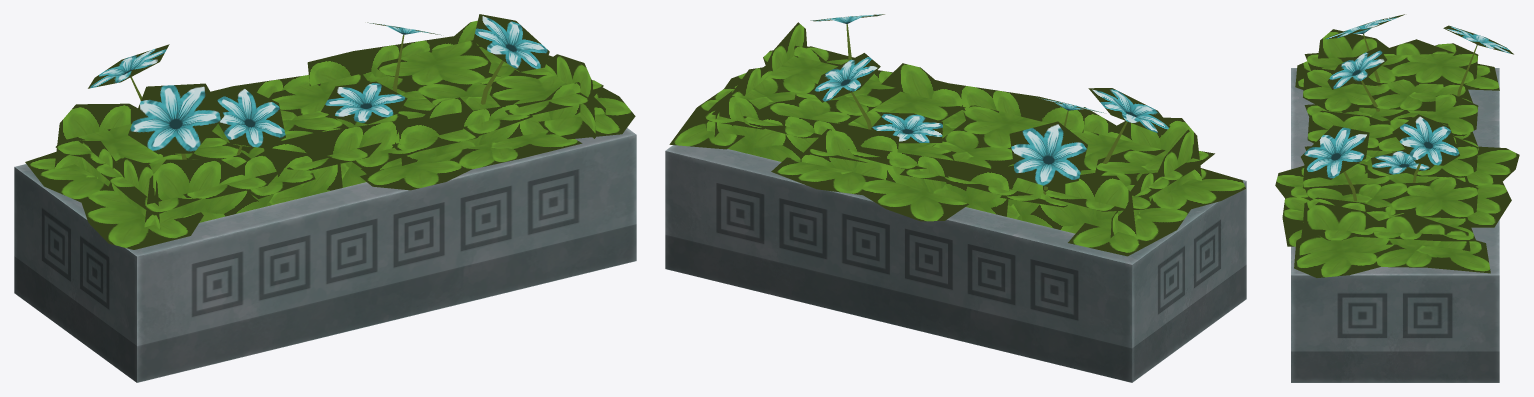
File: vase_04.fbx
The picture shows the model from 3 angles, left to right: view 1: azimuth 30°, elevation 25°; view 2: azimuth 150°, elevation 25°; view 3: azimuth 270°, elevation 25°; orthographic projection. The views are drawn at different scales.
Visible parts, largest first — view 1: vase_04, vase_04_plants; view 2: vase_04, vase_04_plants; view 3: vase_04_plants, vase_04.
Part boxes in pixels (x1=…): vase_04: x1=14, y1=128, x2=636, y2=382; vase_04_plants: x1=25, y1=14, x2=635, y2=249; vase_04: x1=665, y1=145, x2=1246, y2=382; vase_04_plants: x1=669, y1=14, x2=1245, y2=256; vase_04_plants: x1=1275, y1=14, x2=1519, y2=277; vase_04: x1=1291, y1=68, x2=1499, y2=382.
Size of the model in its own units: 112 by 48.61 by 52.69.
